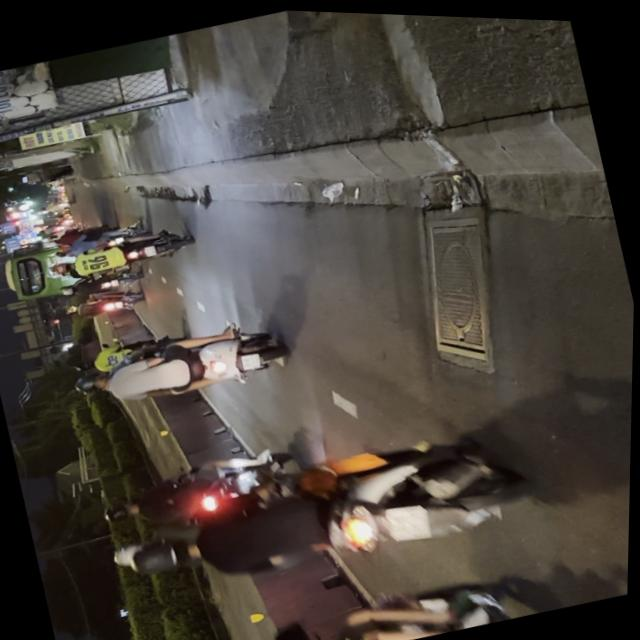helmet: (122, 524, 206, 583), (73, 367, 113, 396)
licenseplate: (102, 396, 541, 621), (71, 532, 566, 640), (65, 305, 295, 424)
nohelmet: (386, 496, 435, 542), (241, 349, 263, 368)
